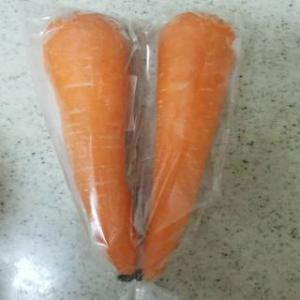carrot: (138, 13, 236, 281), (44, 12, 134, 286)
